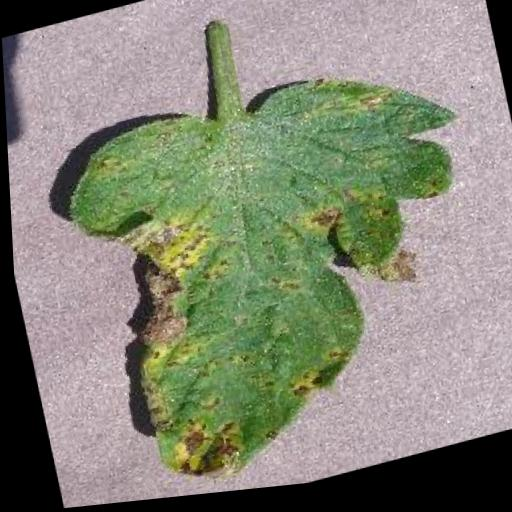Septoria: (53, 44, 512, 508)
